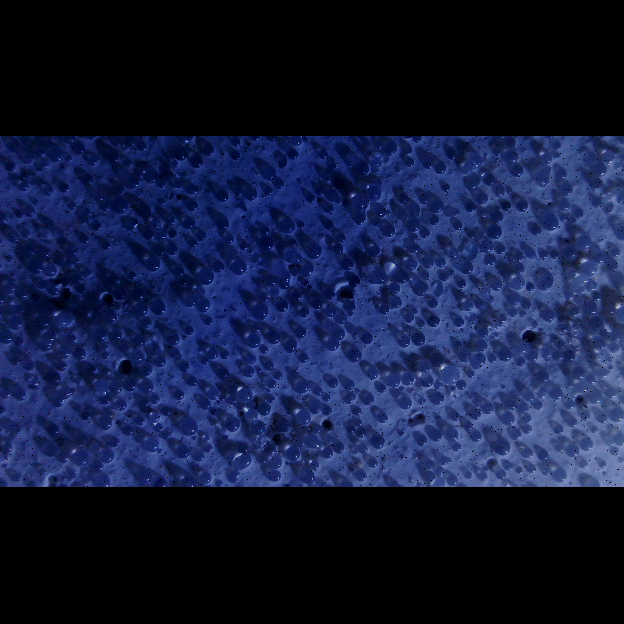GrassBeadSeg: (178, 419, 198, 436), (366, 269, 388, 284), (250, 303, 269, 320), (442, 367, 460, 384), (541, 215, 560, 231), (54, 313, 74, 328), (493, 439, 511, 455), (233, 455, 252, 470), (294, 409, 311, 425), (230, 260, 248, 275), (197, 270, 215, 285), (73, 451, 91, 466), (284, 249, 303, 263), (366, 185, 382, 201), (94, 380, 110, 396), (112, 199, 129, 214), (278, 220, 296, 234), (136, 469, 154, 483), (339, 185, 357, 199), (346, 348, 362, 363), (382, 140, 398, 155), (224, 418, 241, 432), (145, 258, 162, 272), (258, 237, 275, 251), (306, 245, 323, 259), (583, 301, 598, 316), (487, 225, 503, 239), (245, 334, 261, 348), (129, 351, 145, 365), (265, 330, 281, 344), (412, 282, 428, 296), (428, 200, 445, 213), (502, 151, 519, 164), (286, 446, 301, 460), (295, 380, 310, 394), (589, 316, 604, 330), (471, 354, 486, 368), (537, 277, 552, 291), (238, 387, 253, 401), (47, 372, 62, 386), (576, 236, 591, 250), (510, 276, 525, 290), (97, 416, 113, 429), (144, 438, 160, 451), (101, 310, 117, 323), (581, 263, 598, 275), (371, 435, 385, 449), (100, 450, 114, 464), (498, 348, 512, 362), (541, 308, 555, 322), (386, 374, 400, 388), (251, 421, 265, 435), (445, 428, 459, 442), (283, 340, 298, 353), (243, 188, 258, 201), (300, 470, 315, 483), (138, 363, 153, 376), (92, 329, 107, 342), (151, 302, 166, 315), (429, 393, 445, 405), (339, 259, 355, 271), (189, 156, 205, 168), (139, 381, 155, 393), (464, 178, 480, 190), (95, 475, 111, 487), (36, 317, 52, 329), (9, 317, 23, 330), (0, 331, 14, 344), (166, 333, 180, 346), (43, 264, 57, 277), (411, 334, 426, 346), (381, 225, 396, 237), (113, 288, 128, 300), (133, 304, 148, 316), (406, 220, 421, 232), (479, 242, 495, 253), (182, 476, 198, 487), (258, 403, 271, 416), (566, 445, 579, 458), (553, 469, 566, 482), (580, 439, 594, 451), (474, 193, 488, 205), (13, 389, 27, 401), (420, 376, 434, 388), (27, 377, 41, 389), (263, 168, 277, 180), (44, 445, 58, 457), (430, 354, 444, 366), (457, 350, 471, 362), (510, 165, 524, 177), (355, 163, 369, 175), (593, 165, 607, 177), (536, 174, 550, 186), (210, 262, 225, 273), (131, 289, 146, 300), (106, 275, 122, 285), (199, 471, 212, 483), (539, 152, 552, 164), (176, 447, 190, 458), (177, 362, 191, 373), (275, 301, 289, 312), (267, 471, 281, 482), (515, 201, 529, 212), (433, 163, 447, 174), (109, 330, 123, 341), (216, 218, 230, 229), (215, 191, 229, 202), (490, 212, 504, 223), (206, 389, 220, 400), (28, 263, 42, 274), (146, 172, 160, 183), (38, 248, 52, 259), (181, 219, 196, 229), (173, 151, 188, 161), (153, 477, 168, 487), (564, 249, 579, 259), (503, 413, 515, 425), (355, 426, 367, 438), (590, 392, 602, 404), (265, 444, 277, 456), (279, 420, 291, 432), (327, 376, 339, 388), (344, 301, 356, 313), (378, 303, 390, 315), (390, 297, 402, 309), (268, 286, 280, 298), (294, 328, 307, 339), (397, 337, 410, 348), (226, 471, 239, 482), (481, 403, 494, 414), (421, 258, 434, 269), (124, 220, 137, 231), (396, 272, 409, 283), (404, 259, 417, 270), (367, 244, 380, 255), (460, 263, 473, 274), (483, 174, 496, 185), (508, 293, 521, 304), (332, 328, 345, 339), (106, 438, 120, 448), (41, 186, 55, 196), (123, 381, 137, 391), (216, 369, 230, 379), (114, 400, 128, 410), (483, 256, 497, 266), (46, 425, 60, 435), (185, 201, 199, 211), (418, 194, 432, 204), (64, 258, 78, 268), (263, 276, 277, 286), (183, 295, 197, 305), (560, 185, 572, 196), (202, 145, 214, 156), (401, 145, 413, 156), (431, 429, 442, 441), (471, 431, 482, 443), (551, 388, 562, 400), (402, 374, 414, 385), (477, 340, 488, 352), (537, 371, 549, 382), (578, 383, 590, 394), (522, 447, 533, 459), (447, 474, 458, 486), (310, 437, 321, 449), (198, 433, 210, 444), (363, 393, 374, 405), (400, 398, 412, 409), (310, 402, 321, 414), (149, 411, 160, 423), (344, 379, 356, 390), (367, 367, 379, 378), (349, 276, 361, 287), (298, 307, 310, 318), (311, 298, 323, 309), (303, 264, 315, 275), (362, 332, 373, 344), (435, 256, 446, 268), (461, 163, 472, 175), (40, 340, 51, 352), (43, 331, 55, 342), (5, 282, 16, 294), (327, 339, 339, 350), (133, 335, 145, 346), (242, 367, 255, 377), (153, 357, 166, 367), (192, 452, 205, 462), (72, 144, 85, 154), (56, 453, 69, 463), (205, 349, 218, 359), (290, 291, 303, 301), (289, 136, 302, 146), (197, 300, 210, 310), (407, 244, 421, 253), (510, 429, 521, 440), (354, 214, 365, 225), (518, 402, 529, 413), (506, 398, 517, 409), (470, 409, 481, 420), (419, 361, 430, 372), (612, 411, 623, 422), (334, 443, 345, 454), (356, 470, 367, 481), (272, 457, 283, 468), (247, 410, 258, 421), (298, 352, 309, 363), (325, 306, 336, 317), (292, 265, 303, 276), (389, 283, 400, 294), (419, 227, 430, 238), (111, 383, 122, 394), (59, 347, 70, 358), (65, 443, 76, 454), (74, 348, 85, 359), (173, 390, 185, 400), (287, 150, 299, 160), (90, 221, 102, 231), (140, 318, 152, 328), (538, 450, 550, 460), (555, 170, 567, 180), (195, 232, 207, 242), (199, 399, 211, 409), (166, 245, 178, 255), (278, 279, 290, 289), (530, 226, 542, 236), (447, 249, 459, 259), (245, 353, 257, 363), (334, 232, 346, 242), (122, 426, 135, 435), (403, 158, 416, 167), (173, 267, 186, 276), (323, 291, 336, 300), (321, 449, 332, 459), (586, 281, 597, 291), (613, 434, 623, 445), (428, 317, 439, 327), (565, 351, 575, 362), (82, 175, 93, 185), (38, 161, 49, 171), (375, 384, 387, 393), (186, 377, 198, 386), (455, 381, 467, 390), (18, 183, 30, 192), (11, 473, 23, 482), (568, 307, 580, 316), (5, 163, 17, 172), (85, 365, 97, 374), (398, 195, 410, 204), (100, 396, 112, 405), (126, 180, 138, 189), (9, 425, 21, 434), (335, 316, 347, 325), (15, 291, 28, 299), (454, 317, 464, 327), (463, 301, 473, 311), (0, 214, 10, 224), (14, 338, 24, 348), (475, 299, 485, 309), (492, 281, 502, 291), (575, 369, 585, 379), (533, 400, 543, 410), (565, 400, 575, 410), (463, 421, 473, 431), (344, 394, 354, 404), (501, 268, 511, 278), (496, 244, 506, 254), (515, 264, 525, 274), (466, 202, 476, 212), (424, 159, 434, 169), (447, 150, 457, 160), (324, 220, 334, 230), (427, 299, 438, 308), (56, 362, 67, 371), (79, 234, 90, 243), (428, 216, 439, 225), (59, 184, 70, 193), (263, 361, 274, 370), (123, 158, 134, 167), (101, 241, 112, 250), (312, 387, 323, 396), (144, 231, 155, 240), (21, 230, 32, 239), (551, 142, 562, 151), (153, 247, 164, 256), (332, 245, 343, 254), (592, 179, 603, 188), (151, 220, 162, 229), (165, 216, 176, 225), (559, 202, 570, 211), (500, 202, 512, 210), (76, 286, 88, 294), (66, 247, 78, 255), (258, 455, 268, 464), (480, 288, 490, 297), (528, 352, 538, 361), (525, 392, 535, 401), (554, 425, 563, 435), (523, 424, 532, 434), (526, 464, 536, 473), (497, 470, 506, 480), (523, 414, 532, 424), (450, 412, 460, 421), (353, 406, 362, 416), (379, 413, 388, 423), (609, 344, 619, 353), (508, 308, 518, 317), (521, 300, 531, 309), (226, 396, 237, 404), (82, 269, 93, 277), (231, 139, 242, 147), (96, 194, 107, 202), (172, 180, 183, 188), (150, 395, 161, 403), (187, 186, 198, 194), (597, 341, 606, 350), (322, 407, 332, 415), (25, 209, 35, 217), (11, 357, 21, 365), (275, 181, 285, 189), (318, 150, 328, 158), (230, 152, 240, 160), (239, 444, 249, 452), (411, 136, 422, 143), (127, 272, 136, 280), (14, 210, 23, 218), (488, 354, 496, 363), (266, 136, 278, 142), (611, 249, 620, 257), (221, 351, 230, 359), (316, 188, 325, 196), (100, 352, 110, 359), (417, 398, 427, 405), (188, 239, 198, 246), (403, 325, 411, 333), (410, 307, 418, 315), (458, 280, 466, 288), (454, 341, 462, 349), (480, 330, 488, 338), (517, 358, 525, 366), (556, 341, 564, 349), (554, 353, 562, 361), (607, 390, 615, 398), (582, 412, 590, 420), (569, 419, 577, 427), (418, 438, 426, 446), (360, 446, 368, 454), (543, 467, 551, 475), (426, 461, 434, 469), (355, 418, 363, 426), (210, 408, 218, 416), (267, 395, 275, 403), (268, 380, 276, 388), (275, 372, 283, 380), (164, 407, 172, 415), (155, 424, 163, 432), (137, 417, 145, 425), (201, 357, 209, 365), (260, 346, 268, 354), (323, 394, 331, 402), (301, 278, 309, 286), (399, 212, 407, 220), (454, 222, 462, 230), (575, 210, 583, 218), (540, 251, 548, 259), (593, 292, 601, 300), (442, 184, 450, 192), (373, 218, 381, 226), (335, 196, 343, 204), (307, 195, 315, 203), (279, 161, 287, 169), (264, 187, 272, 195), (234, 188, 242, 196), (185, 327, 193, 335), (103, 367, 111, 375), (75, 376, 83, 384), (55, 399, 63, 407), (69, 335, 77, 343), (95, 463, 103, 471), (5, 444, 13, 452), (2, 390, 10, 398), (26, 362, 34, 370), (11, 235, 19, 243), (27, 247, 35, 255), (289, 239, 297, 247), (261, 227, 269, 235), (325, 205, 333, 213), (447, 269, 455, 277), (169, 230, 177, 238), (377, 210, 385, 218), (453, 443, 461, 451), (240, 242, 248, 250), (226, 236, 234, 244), (297, 222, 305, 230), (599, 370, 608, 377), (417, 320, 425, 327), (406, 315, 414, 322), (467, 371, 475, 378), (587, 376, 595, 383), (599, 416, 607, 423), (557, 444, 564, 452), (480, 473, 487, 481), (466, 471, 473, 479), (435, 382, 443, 389), (579, 461, 587, 468), (611, 448, 619, 455), (599, 461, 607, 468), (436, 468, 444, 475), (369, 460, 377, 467), (313, 426, 321, 433), (347, 426, 355, 433), (311, 462, 319, 469), (162, 433, 170, 440), (204, 444, 212, 451), (410, 234, 418, 241), (467, 231, 475, 238), (453, 209, 461, 216), (496, 190, 504, 197), (480, 210, 488, 217), (551, 251, 559, 258), (609, 264, 617, 271), (595, 256, 603, 263), (101, 204, 109, 211), (158, 233, 166, 240), (179, 277, 187, 284), (205, 318, 213, 325), (62, 391, 70, 398), (79, 437, 87, 444), (51, 288, 59, 295), (252, 325, 260, 332), (441, 273, 449, 280), (114, 140, 122, 147), (124, 193, 132, 200), (158, 181, 166, 188), (139, 167, 147, 174), (90, 157, 97, 165), (54, 153, 61, 161), (38, 149, 45, 157), (28, 154, 35, 162), (83, 412, 91, 419), (69, 203, 78, 209), (31, 200, 40, 206), (516, 467, 523, 474), (531, 321, 538, 328), (519, 310, 526, 317), (591, 426, 598, 433), (505, 463, 512, 470), (440, 458, 447, 465), (216, 480, 223, 487), (506, 187, 513, 194), (492, 331, 499, 338), (527, 284, 534, 291), (118, 187, 125, 194), (48, 221, 55, 228), (129, 139, 136, 146), (139, 144, 146, 151), (112, 155, 119, 162), (594, 201, 601, 208), (6, 256, 14, 262), (570, 289, 576, 296), (578, 287, 584, 294), (613, 335, 620, 341), (383, 157, 389, 164), (374, 161, 381, 167), (495, 149, 501, 155), (570, 218, 576, 224), (561, 216, 567, 222), (605, 209, 611, 215), (616, 197, 622, 203), (614, 164, 620, 170), (606, 158, 612, 164), (554, 153, 560, 159), (531, 253, 537, 259), (509, 256, 515, 262), (516, 255, 522, 261), (566, 294, 572, 300), (608, 308, 614, 314), (607, 364, 613, 370), (373, 168, 379, 174), (368, 150, 374, 156), (618, 457, 623, 463), (354, 450, 358, 455), (262, 440, 266, 445), (42, 470, 46, 475), (77, 278, 81, 283), (273, 228, 277, 233), (174, 162, 178, 167), (387, 210, 391, 215), (68, 157, 72, 162), (264, 297, 268, 302), (502, 385, 506, 389), (470, 395, 474, 399), (476, 403, 480, 407), (452, 387, 456, 391), (400, 455, 404, 459), (382, 457, 386, 461), (414, 455, 418, 459), (329, 440, 333, 444), (259, 443, 263, 447), (159, 449, 163, 453), (145, 402, 149, 406), (267, 389, 271, 393), (263, 388, 267, 392), (356, 389, 360, 393), (308, 285, 312, 289), (354, 332, 358, 336), (546, 358, 550, 362), (541, 394, 545, 398), (325, 177, 329, 181), (332, 165, 336, 169), (183, 336, 187, 340), (104, 345, 108, 349), (72, 471, 76, 475), (63, 477, 67, 481), (72, 389, 76, 393), (489, 299, 493, 303), (469, 320, 473, 324), (436, 293, 440, 297), (377, 144, 381, 148), (360, 203, 364, 207), (359, 208, 363, 212), (261, 194, 265, 198), (258, 368, 261, 373), (437, 417, 441, 420), (401, 387, 405, 390), (172, 375, 175, 379), (301, 445, 304, 449), (522, 349, 525, 353), (448, 460, 451, 463), (400, 432, 403, 435)
